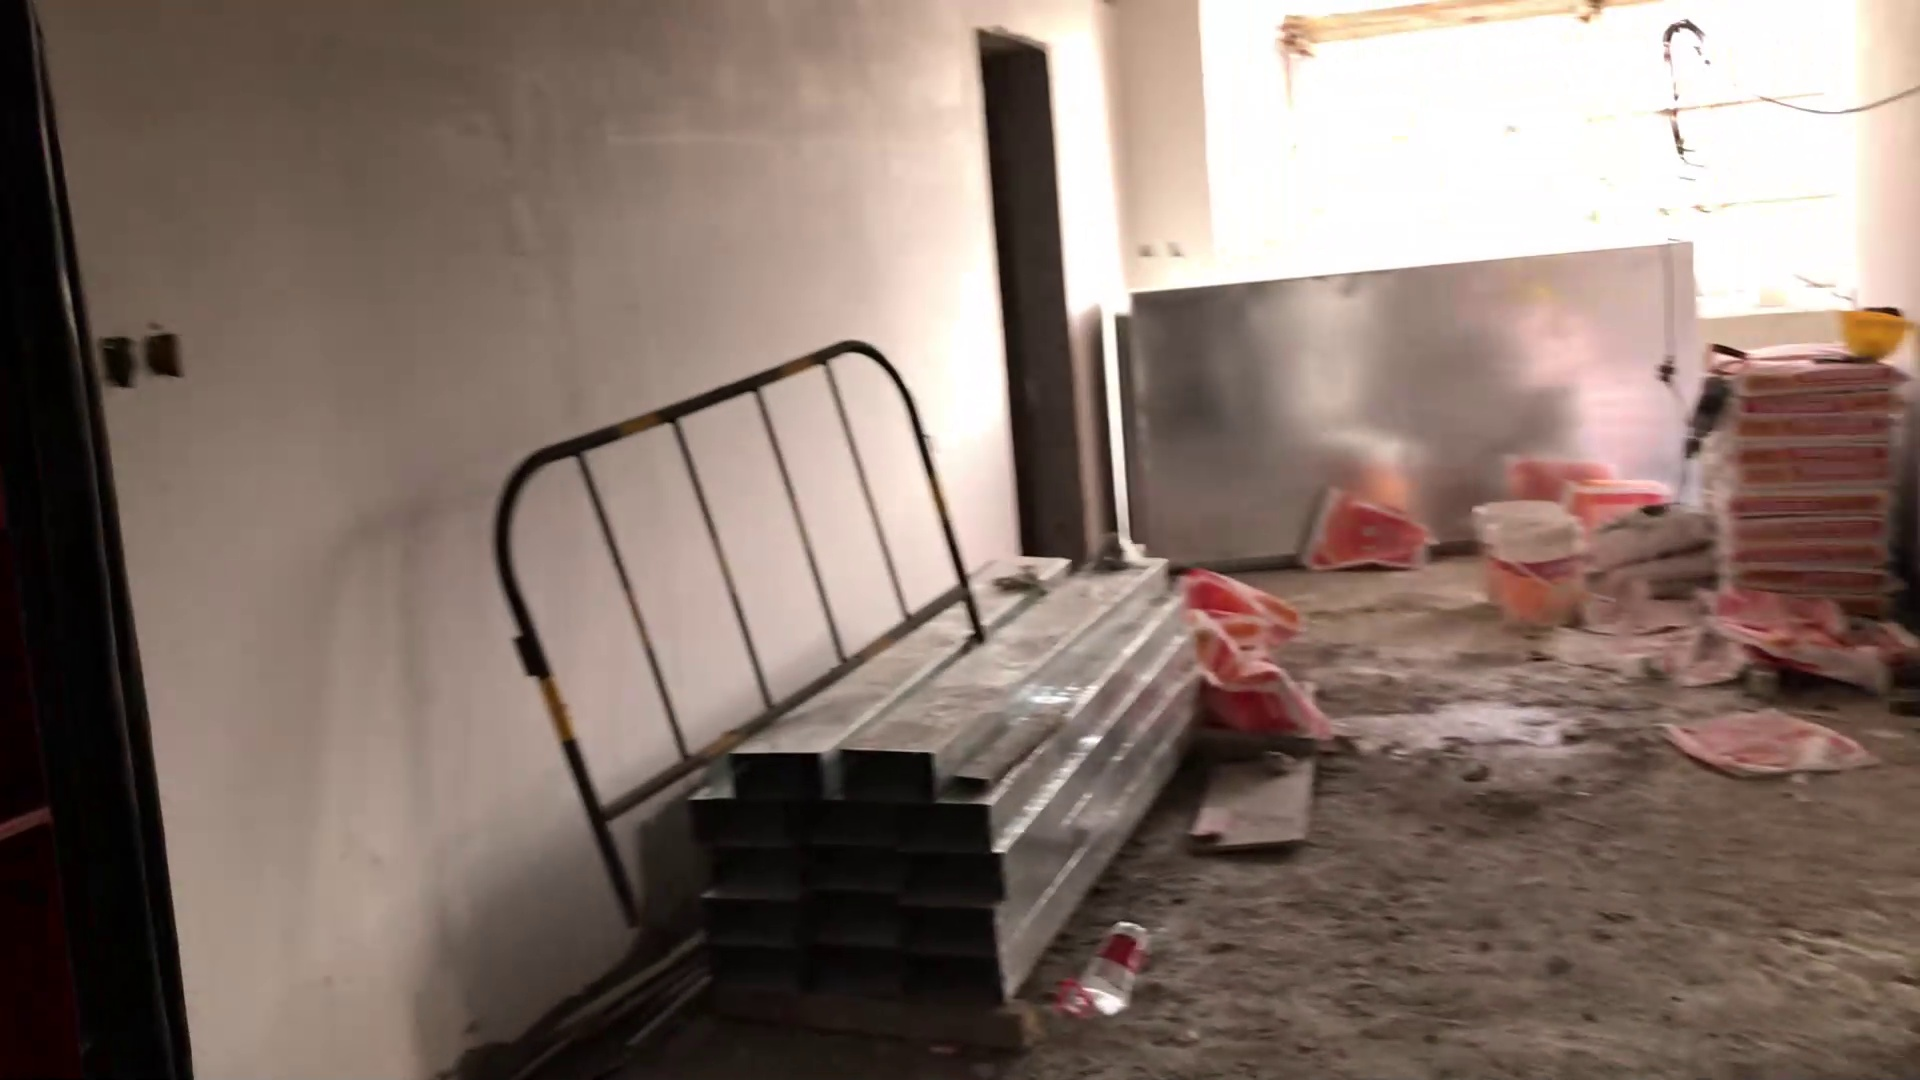fence: (418, 336, 1001, 746)
helmet: (1829, 301, 1912, 365)
